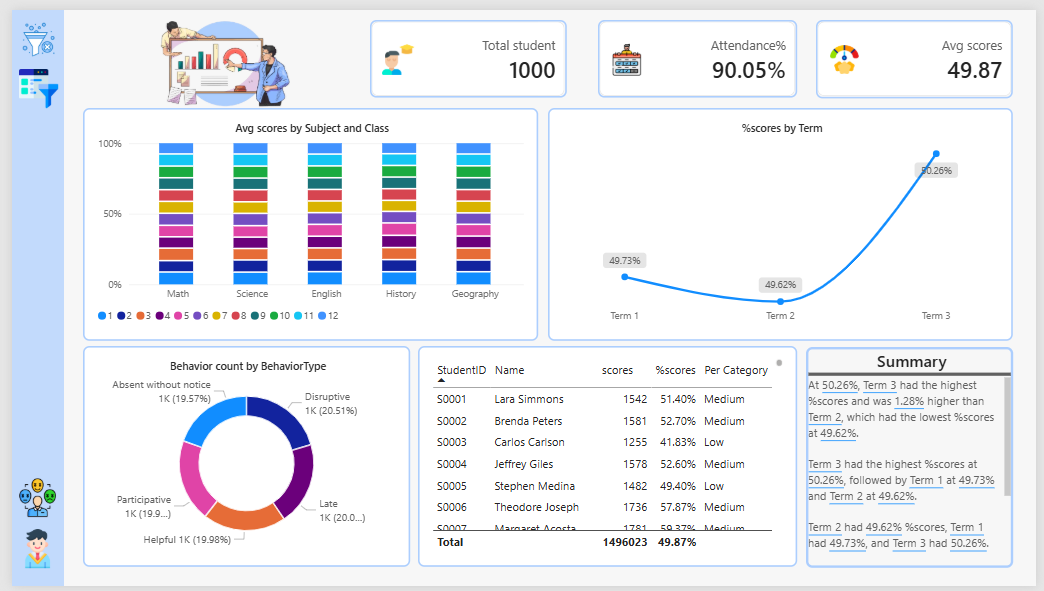

The page's visual inventory and layout, read from the dashboard file:
{"tool":"powerbi","page":{"name":"Academic","canvas":[1280,720],"ordinal":0},"visuals":[{"type":"image","box":[140,12.9,251.4,111.4],"z":0},{"type":"cardVisual","fields":{"Data":["_measure.total student"]},"box":[447.1,12.9,245.7,97.1],"z":1000},{"type":"cardVisual","fields":{"Data":["_measure.Attendance%"]},"box":[732.9,12.9,248.6,97.1],"z":2000},{"type":"cardVisual","fields":{"Data":["_measure.Avg scores by subject"]},"box":[1005.4,12.7,246.2,97.5],"z":3000},{"type":"hundredPercentStackedColumnChart","fields":{"Category":["Scores csv.Subject"],"Series":["Students csv.Class"],"Y":["_measure.Avg scores"]},"box":[88.6,122.9,568.6,291.4],"z":4000},{"type":"lineChart","fields":{"Category":["Scores csv.Term"],"Y":["_measure.%scores"]},"box":[670,122.5,581.2,291.2],"z":5000},{"type":"donutChart","fields":{"Category":["Behavior csv.BehaviorType"],"Y":["_measure.Behavior count"]},"box":[88.8,420.3,408.8,276.2],"z":6000},{"type":"shape","box":[0,0,65,720],"z":7000},{"type":"tableEx","fields":{"Values":["Students csv.StudentID","Students csv.Name","_measure.Total scores","_measure.%scores","Students csv.Performance Category"]},"box":[507.5,420.3,473.8,276.2],"z":8000},{"type":"textbox","title":"Summary","box":[992.9,421.4,258.6,275.7],"z":9000},{"type":"image","box":[7.1,648.3,48.6,48.6],"z":11000},{"type":"image","box":[7.1,585.4,48.6,48.6],"z":12000},{"type":"image","box":[8.6,12.9,48.6,48.6],"z":13000},{"type":"image","box":[8.6,74.3,48.6,48.6],"z":14000}]}

Visuals, with their boxes on the page's 1280x720 design canvas (x1, y1, x2, y2). These are canvas units, not pixel positions in the 1044x591 screenshot, which may show the page scaled, cropped or inside an application window:
image: {"x1": 140, "y1": 13, "x2": 391, "y2": 124}
cardVisual - _measure.total student: {"x1": 447, "y1": 13, "x2": 693, "y2": 110}
cardVisual - _measure.Attendance%: {"x1": 733, "y1": 13, "x2": 982, "y2": 110}
cardVisual - _measure.Avg scores by subject: {"x1": 1005, "y1": 13, "x2": 1252, "y2": 110}
hundredPercentStackedColumnChart - Scores csv.Subject x Students csv.Class: {"x1": 89, "y1": 123, "x2": 657, "y2": 414}
lineChart - Scores csv.Term x _measure.%scores: {"x1": 670, "y1": 122, "x2": 1251, "y2": 414}
donutChart - Behavior csv.BehaviorType x _measure.Behavior count: {"x1": 89, "y1": 420, "x2": 498, "y2": 696}
shape: {"x1": 0, "y1": 0, "x2": 65, "y2": 720}
tableEx - Students csv.StudentID x Students csv.Name: {"x1": 508, "y1": 420, "x2": 981, "y2": 696}
"Summary" textbox: {"x1": 993, "y1": 421, "x2": 1252, "y2": 697}
image: {"x1": 7, "y1": 648, "x2": 56, "y2": 697}
image: {"x1": 7, "y1": 585, "x2": 56, "y2": 634}
image: {"x1": 9, "y1": 13, "x2": 57, "y2": 62}
image: {"x1": 9, "y1": 74, "x2": 57, "y2": 123}
